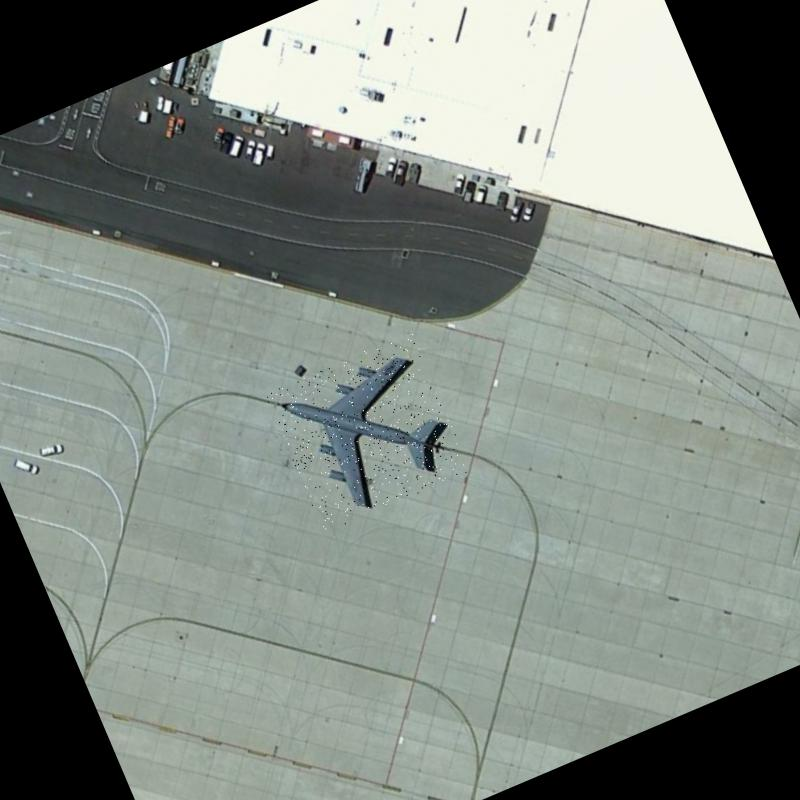A14: (265, 331, 472, 533)
